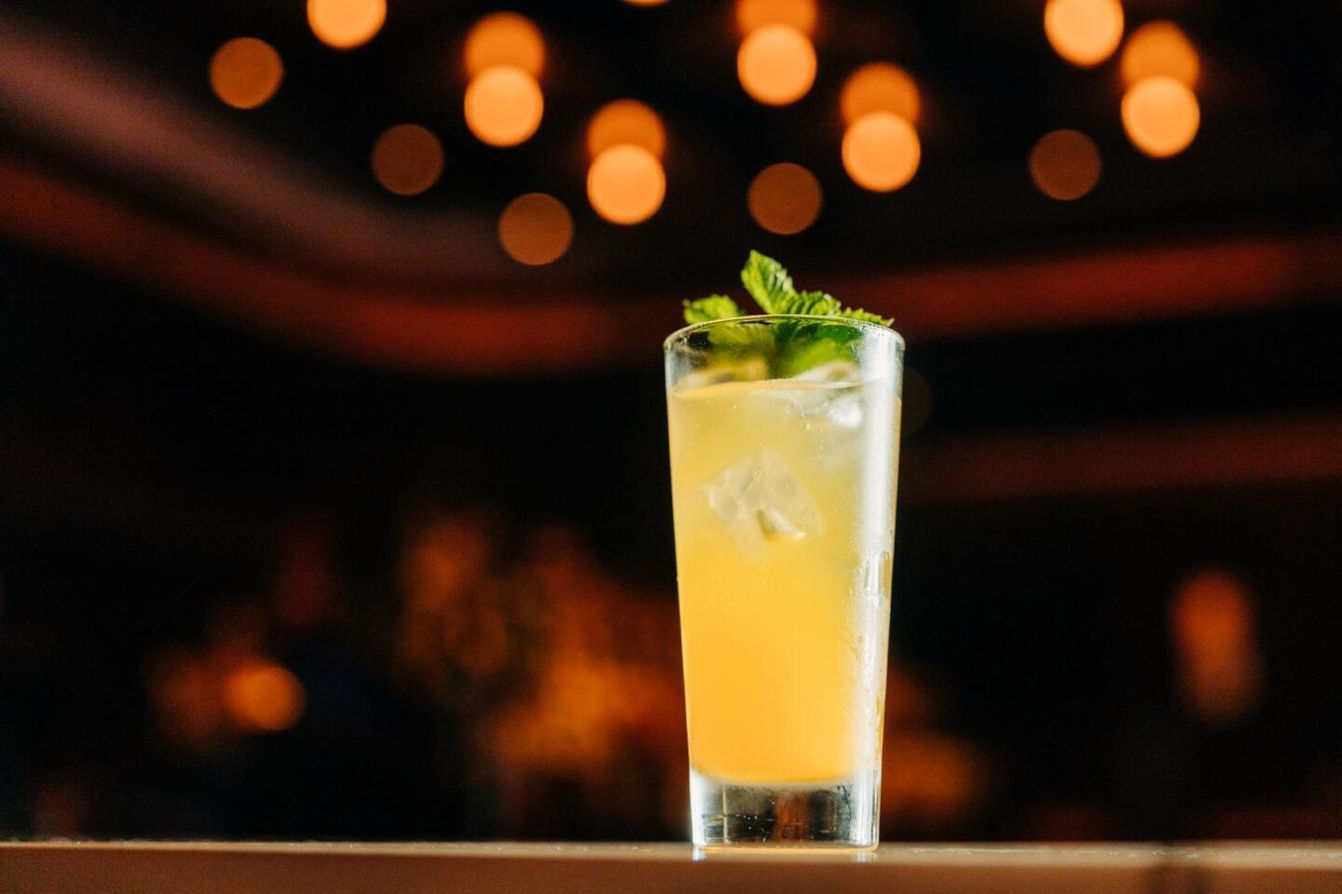glass-normal: (660, 307, 908, 851)
